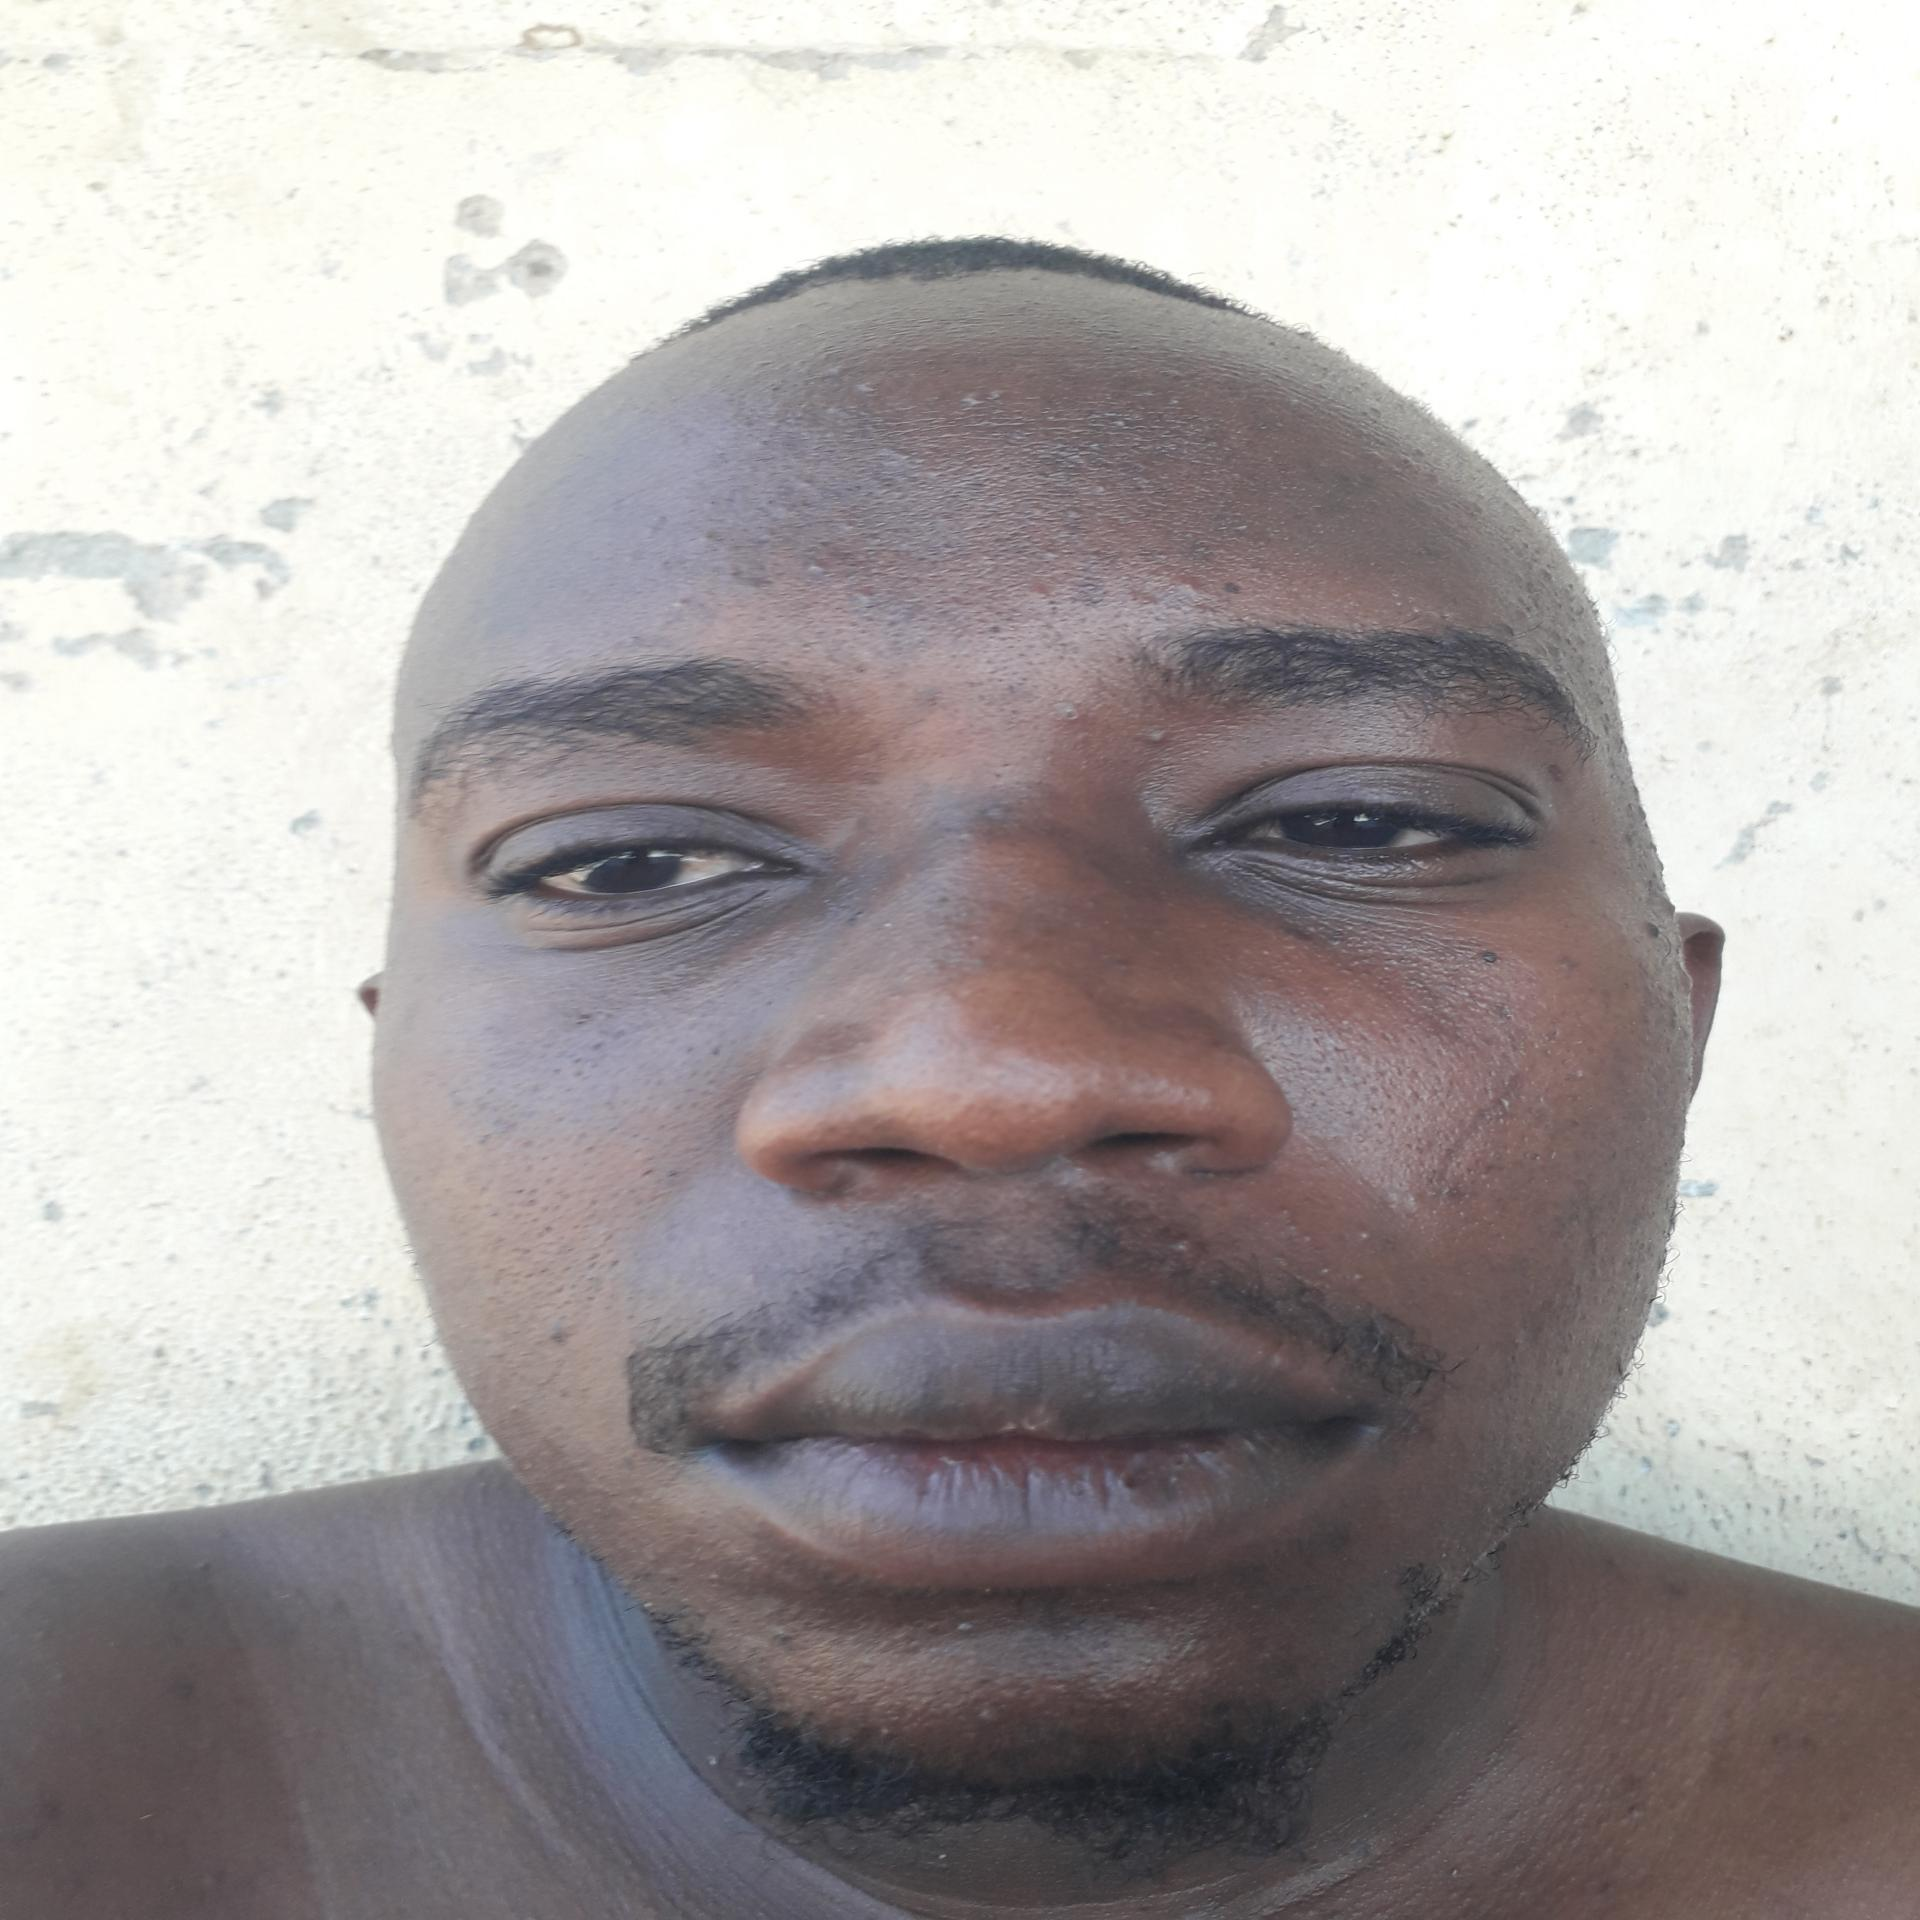Acne: (1273, 1203, 1320, 1250), (761, 1616, 809, 1655), (1162, 1222, 1208, 1259), (876, 441, 925, 471), (1011, 571, 1062, 598), (972, 796, 1011, 826), (1055, 693, 1087, 728), (955, 387, 1007, 408), (795, 554, 832, 584), (668, 591, 703, 619), (1141, 721, 1175, 749), (1175, 573, 1217, 594), (1350, 1222, 1380, 1248), (853, 376, 890, 397), (795, 471, 823, 498), (974, 1702, 1002, 1727), (825, 362, 855, 385), (1124, 585, 1153, 608), (1062, 503, 1092, 526), (698, 520, 724, 545), (951, 1616, 983, 1635), (844, 584, 876, 603)
Dark Circles: (436, 865, 846, 1000), (1185, 818, 1512, 962)
Englarged Pores: (1268, 1027, 1524, 1175), (469, 1069, 601, 1345), (881, 605, 1094, 696)
Wrinkles: (1294, 1124, 1408, 1222), (863, 410, 1131, 436)
